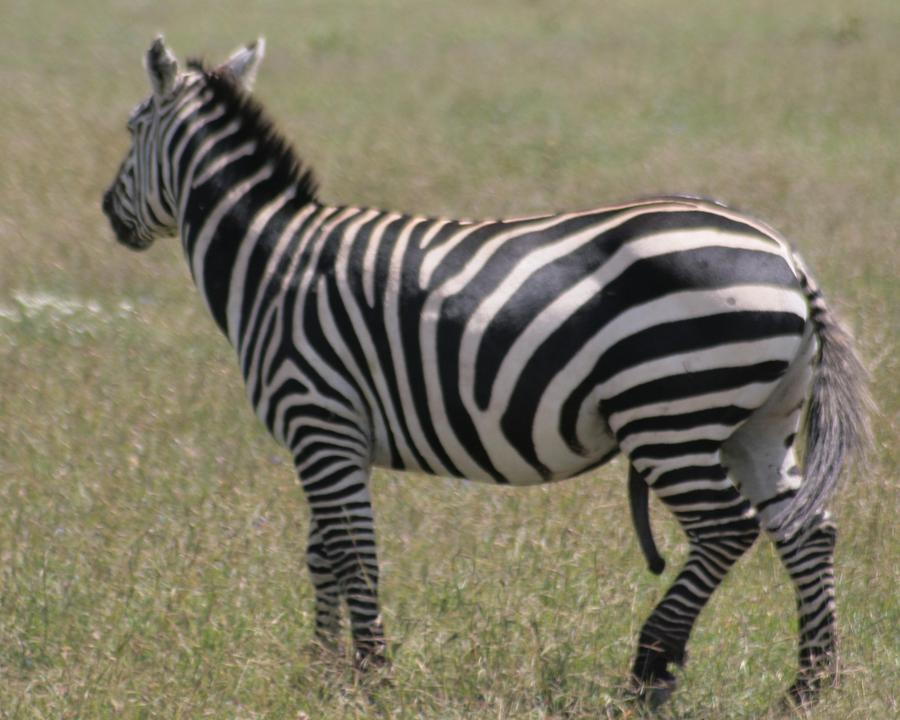zebra_plains: (227, 185, 745, 480)
